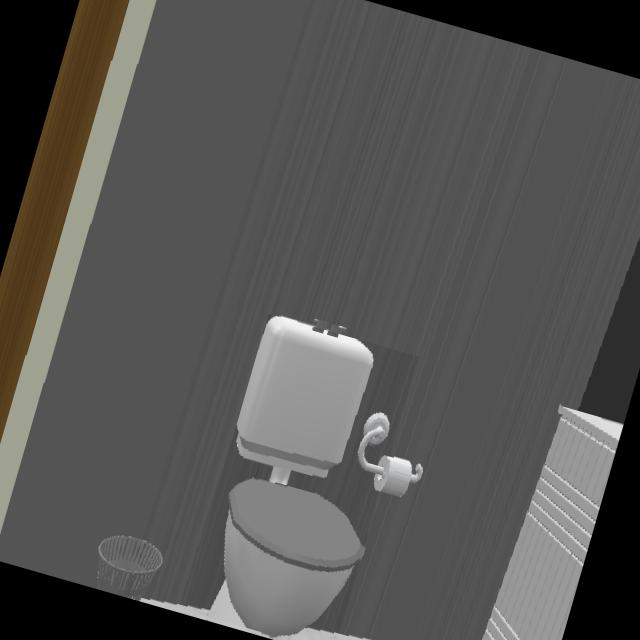toilet: (214, 316, 374, 635)
